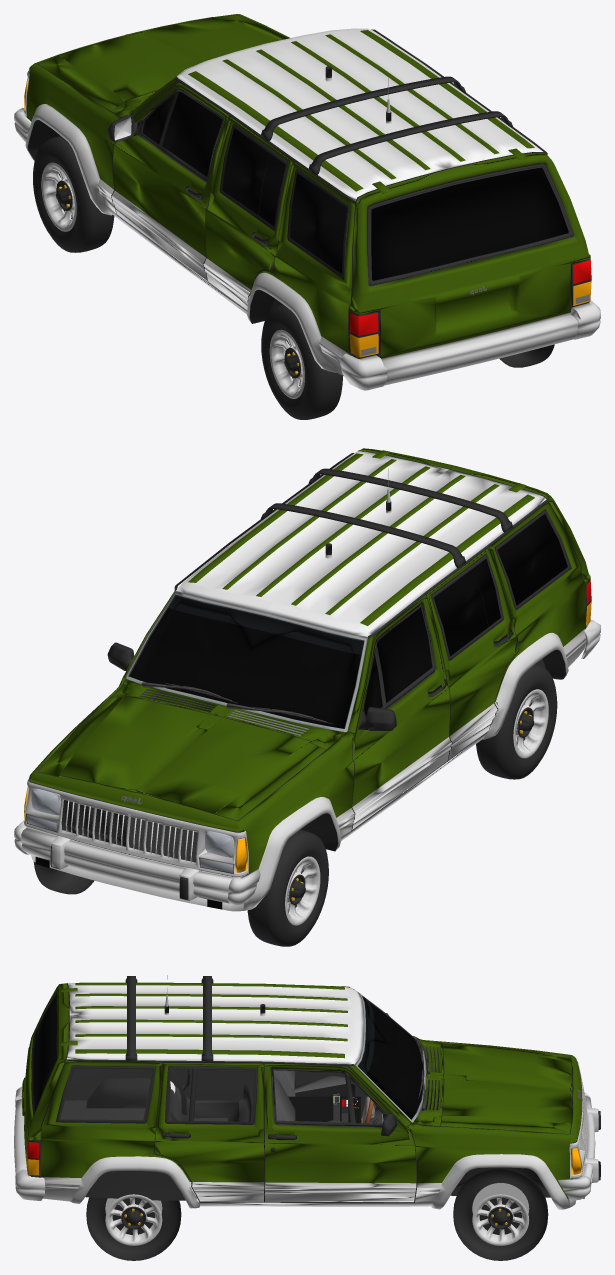
The model's file is car_03.fbx.
The picture shows the model from 3 angles, top to bottom: view 1: azimuth 30°, elevation 25°; view 2: azimuth 150°, elevation 25°; view 3: azimuth 270°, elevation 25°; orthographic projection. The views are drawn at different scales.
Parts seen in each view (by area): view 1: G-__555618; view 2: G-__555618; view 3: G-__555618.
Boxes of the visible parts, x1=… form: G-__555618: x1=14, y1=14, x2=600, y2=419; G-__555618: x1=14, y1=448, x2=600, y2=946; G-__555618: x1=14, y1=975, x2=600, y2=1260.
Bounding box in the file's own units: 199 × 201 × 444.
Materials: 44 (5 with a texture image).
